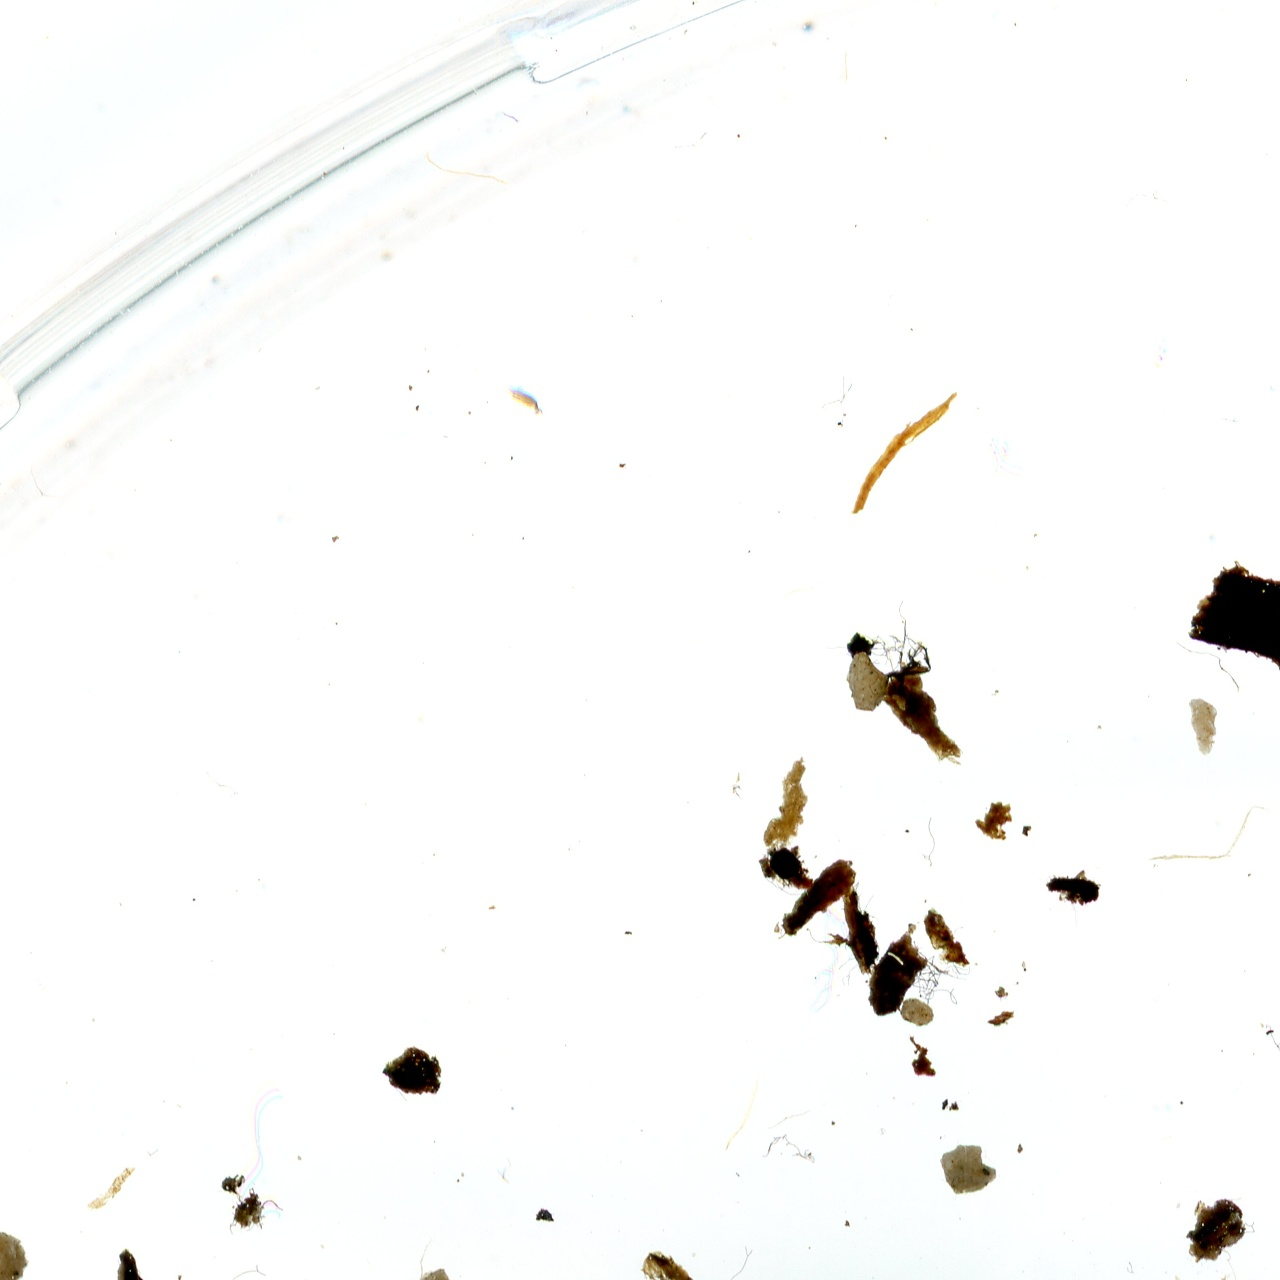arthropod: (493, 374, 552, 421)
